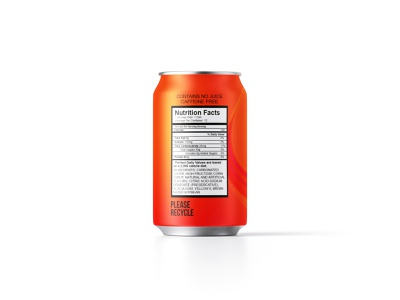can: (151, 69, 249, 238)
